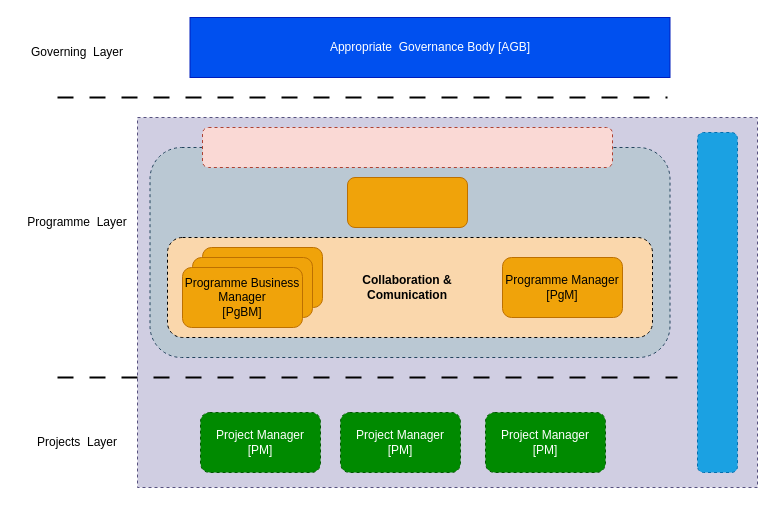
Image size: 775x505. Some labels were removed from this diagram. The box of each missing label's shape, as (x1, y1, x2, y2) in pixels:
Programme Owner [PgO]: (346, 176, 468, 228)
Programme Steering committee [PgSC]: (202, 126, 612, 168)
Programme Support Office ]PgSO]: (696, 132, 738, 472)
